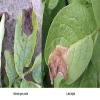Potato leaf late blight: (44, 1, 93, 87)
